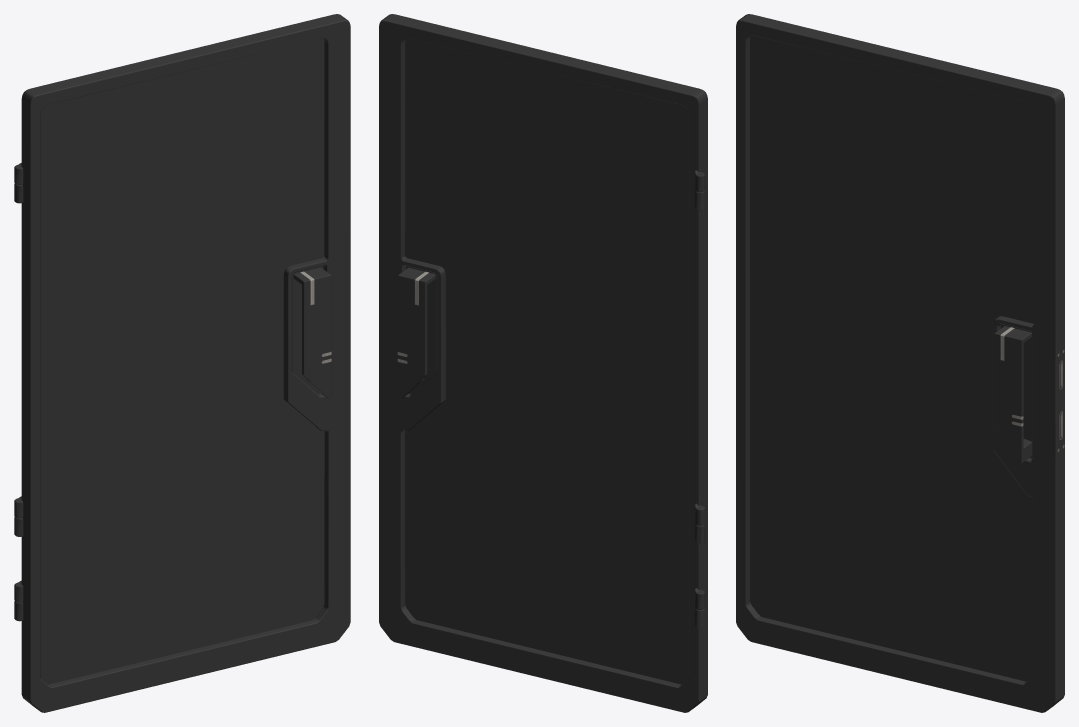
The model's file is SM_Door_Glass_Double_01.FBX.
3 views of the same model, side by side, from view 1: azimuth 30°, elevation 25°; view 2: azimuth 150°, elevation 25°; view 3: azimuth 330°, elevation 25° (orthographic).
Parts seen in each view (by area): view 1: SM_Door_Glass_Double_01_LOD0; view 2: SM_Door_Glass_Double_01_LOD0; view 3: SM_Door_Glass_Double_01_LOD0.
Boxes of the visible parts, x1,y1,x2,y2 form: SM_Door_Glass_Double_01_LOD0: (14,14,350,712); SM_Door_Glass_Double_01_LOD0: (379,14,707,712); SM_Door_Glass_Double_01_LOD0: (736,14,1064,712).
Size of what is drawn, in the model's own units: 112 by 14.63 by 203.
